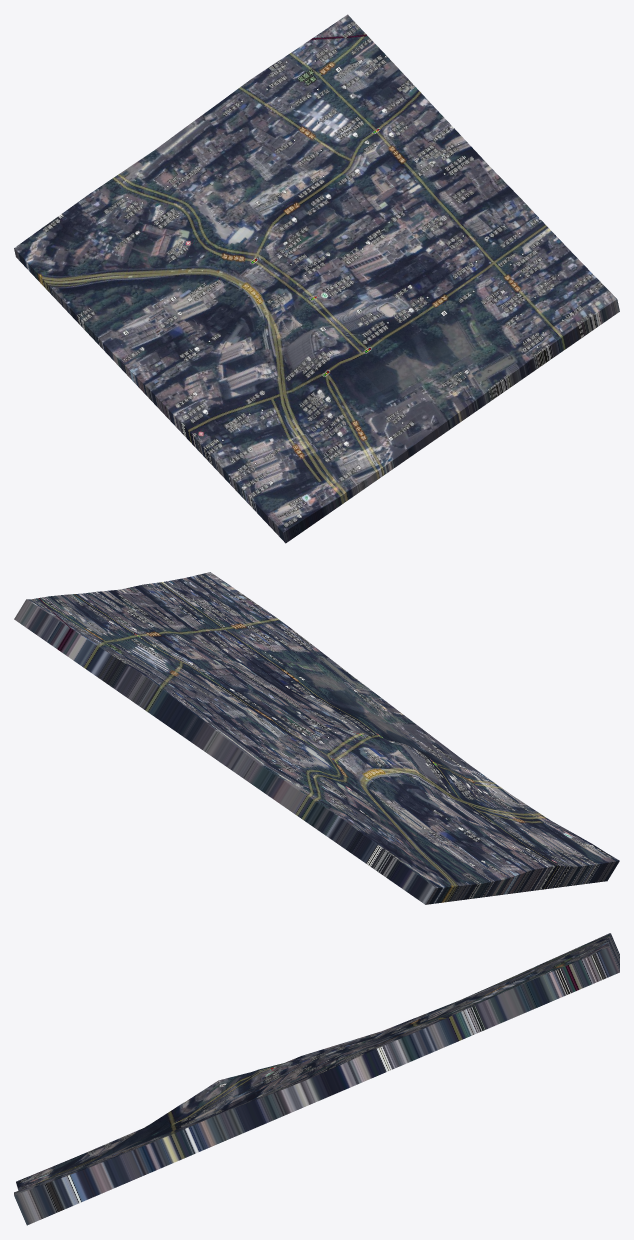
The picture shows the model from 3 angles, top to bottom: view 1: azimuth 30°, elevation 25°; view 2: azimuth 150°, elevation 25°; view 3: azimuth 270°, elevation 25°; orthographic projection. The views are drawn at different scales.
Parts seen in each view (by area): view 1: 0_10_13; view 2: 0_10_13; view 3: 0_10_13.
Part boxes in pixels (box(x1,y1,x2,y2)): 0_10_13: box(14, 14, 619, 543); 0_10_13: box(14, 572, 619, 904); 0_10_13: box(14, 933, 619, 1225).
Size of the model in its own units: 600 by 449 by 554.
1 material, 1 textured.
